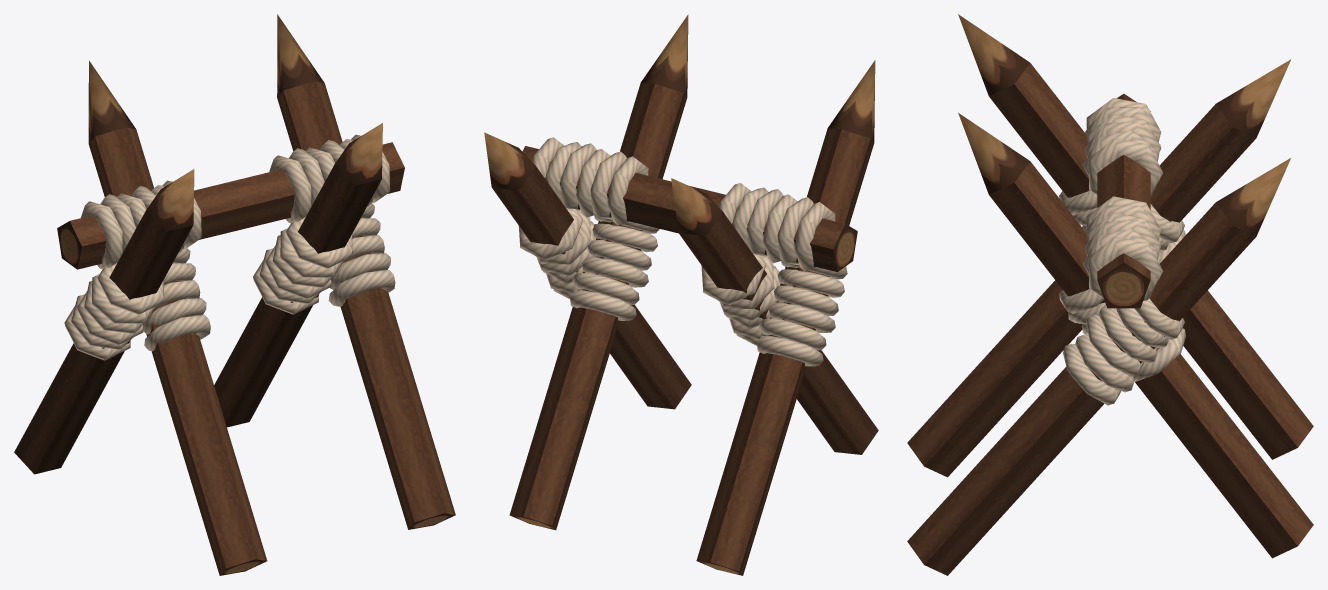
The model's file is lvl1_1x1.fbx.
3 views of the same model, side by side, from view 1: azimuth 30°, elevation 25°; view 2: azimuth 150°, elevation 25°; view 3: azimuth 270°, elevation 25° (orthographic). The views are drawn at different scales.
Visible parts, largest first — view 1: polySurface498; view 2: polySurface498; view 3: polySurface498.
Part boxes in pixels (x1=…): polySurface498: x1=14, y1=14, x2=455, y2=575; polySurface498: x1=484, y1=14, x2=878, y2=575; polySurface498: x1=907, y1=14, x2=1313, y2=575.
Bounding box in the file's own units: 9.61 × 11.62 × 9.75.
